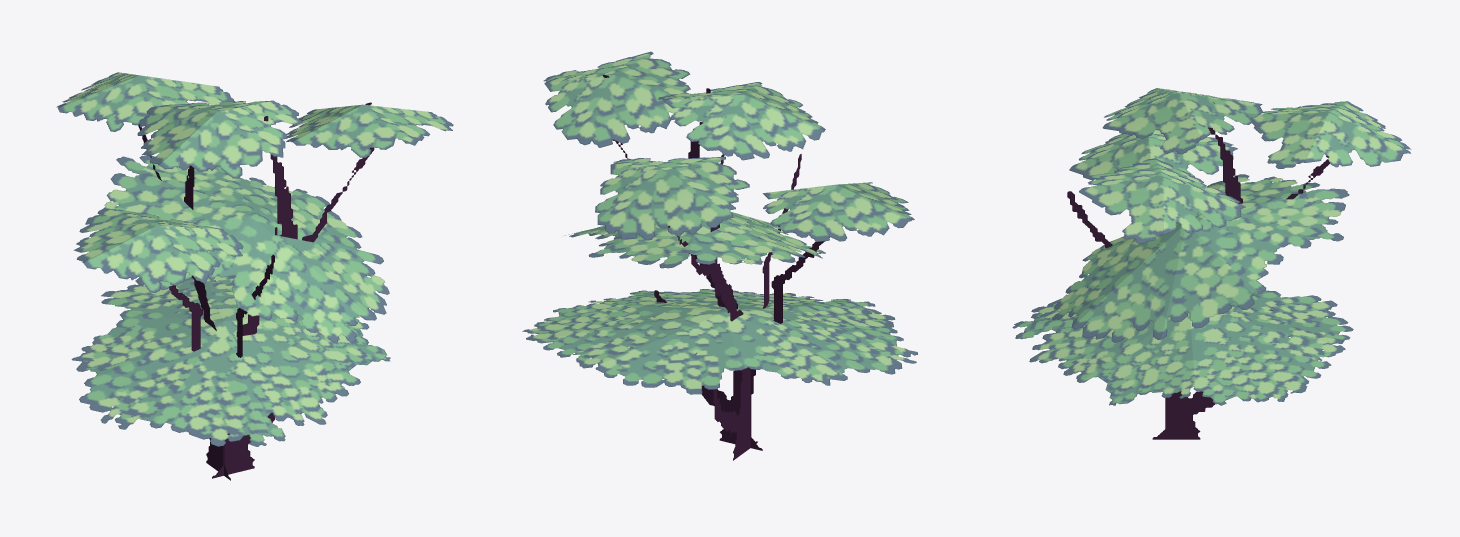
Rendered from bush_03b.fbx.
3 views of the same model, side by side, from view 1: azimuth 30°, elevation 25°; view 2: azimuth 150°, elevation 25°; view 3: azimuth 270°, elevation 25° (orthographic). The views are drawn at different scales.
Parts seen in each view (by area): view 1: bush_03b; view 2: bush_03b; view 3: bush_03b.
Part boxes in pixels (bbox=[...]): bush_03b: bbox=[56, 72, 453, 480]; bush_03b: bbox=[522, 51, 917, 460]; bush_03b: bbox=[1012, 88, 1411, 439].
Size of the model in its own units: 0.3819 by 0.3206 by 0.3615.
Materials: 1 (1 with a texture image).
